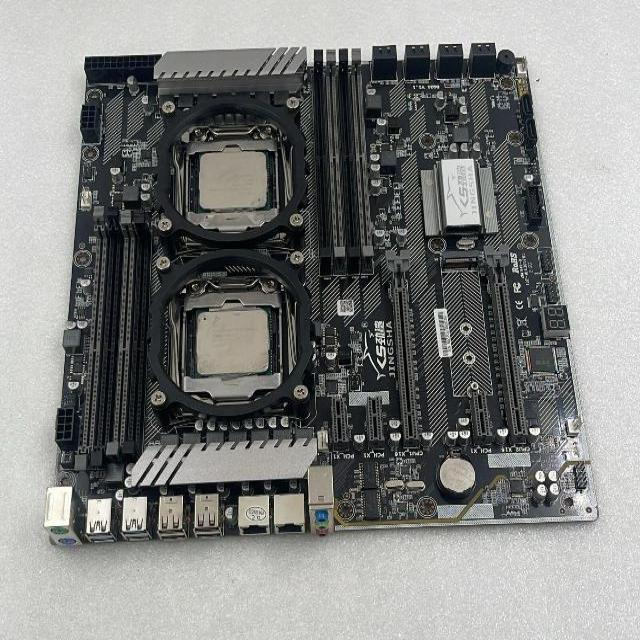CPU: (192, 306, 274, 378), (196, 149, 271, 215)
